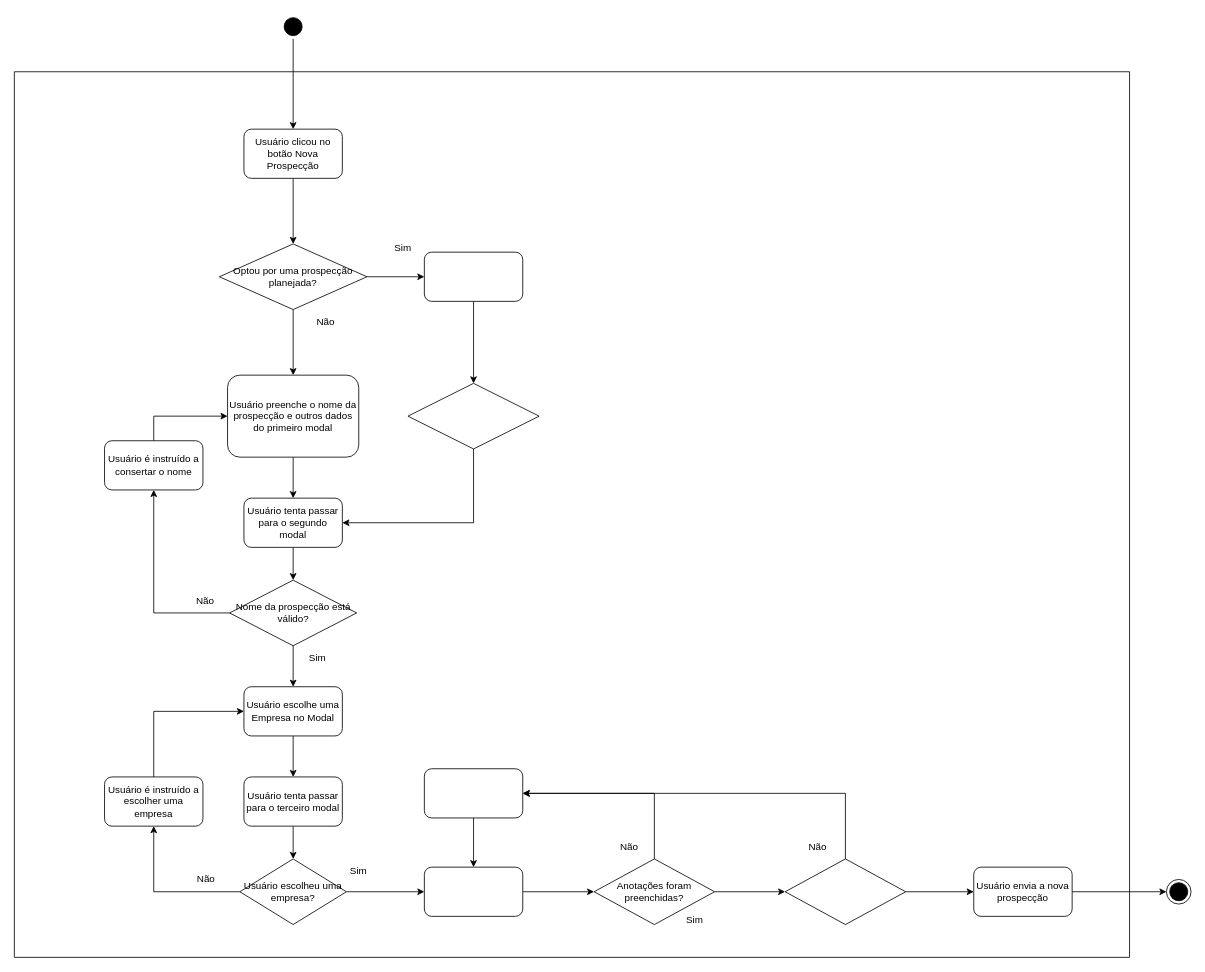
The diagram is 1205 pixels wide and 972 high, and some of its shapes have lost their labels. The centre of each missing label's shape, as x and y in pixels:
Data do Contato Inicial foi preenchida?: point (845, 891)
Detalhes básicos são preenchidos automáticamente: point (473, 276)
Usuário optou por mudar o nome da prospecção?: point (473, 416)
Usuário preenche anotações e data do contato inicial: point (473, 891)
Usuário é instruído a preencher os dados inválidos: point (473, 793)
